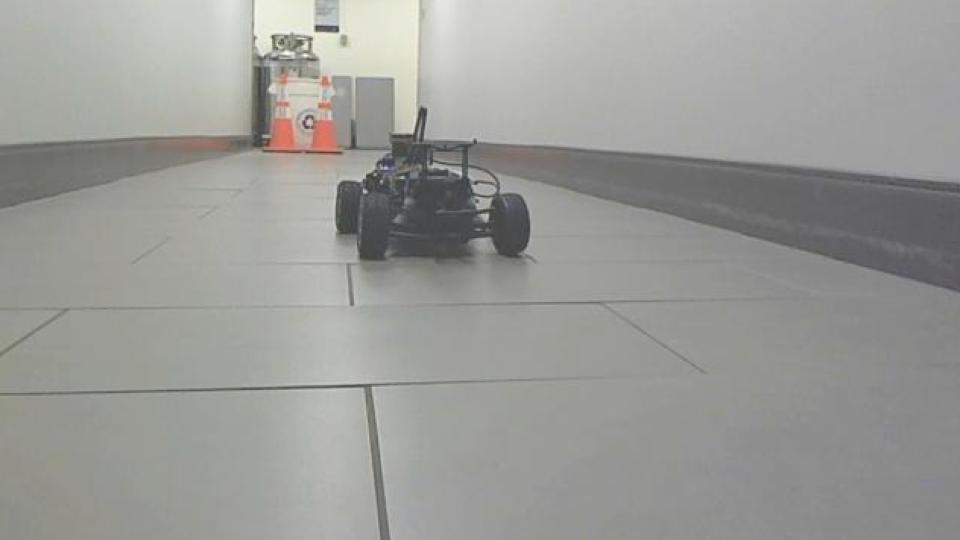car: (332, 105, 534, 264)
